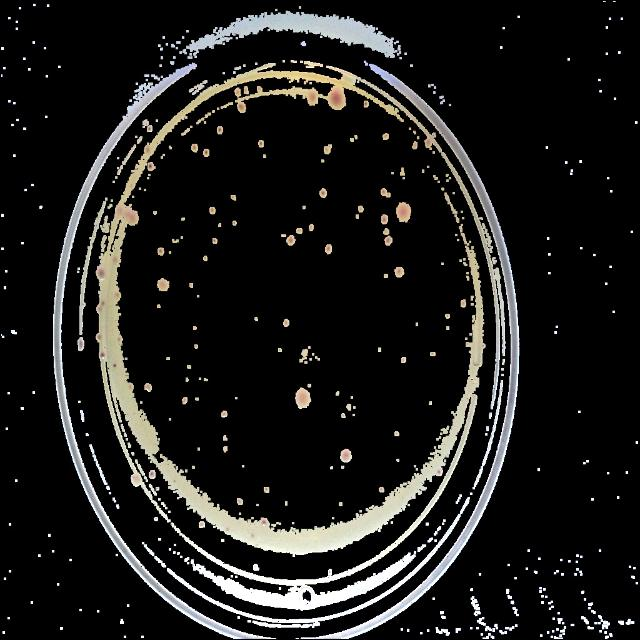colony: (329, 88, 345, 110), (296, 387, 310, 409), (396, 203, 410, 221), (128, 208, 140, 226), (120, 206, 132, 224), (130, 471, 142, 487), (158, 278, 170, 292), (308, 88, 318, 104), (258, 516, 270, 528), (116, 202, 124, 220), (341, 448, 351, 462), (394, 268, 404, 278), (286, 234, 294, 246), (326, 243, 334, 254), (78, 338, 84, 352), (319, 188, 327, 198), (126, 382, 134, 392), (111, 254, 119, 264), (144, 145, 152, 155), (242, 85, 250, 95), (282, 318, 290, 327), (234, 89, 242, 98), (424, 138, 432, 146), (236, 498, 244, 506), (256, 86, 264, 94), (238, 102, 244, 112), (98, 268, 104, 278), (459, 299, 466, 307), (382, 214, 388, 223), (216, 126, 222, 134), (382, 134, 390, 140), (385, 236, 391, 244), (158, 247, 164, 255), (96, 334, 102, 342), (428, 351, 436, 357), (220, 411, 228, 417), (150, 470, 156, 478), (112, 362, 118, 370), (224, 526, 230, 534), (436, 468, 442, 476), (146, 384, 152, 391), (97, 303, 101, 313), (192, 145, 198, 151), (358, 207, 364, 213), (296, 228, 302, 234), (401, 357, 407, 363), (264, 486, 270, 492), (198, 522, 204, 528), (116, 336, 122, 342), (327, 144, 333, 150), (148, 162, 152, 170), (326, 146, 330, 154), (181, 396, 185, 404), (309, 224, 313, 232), (254, 562, 258, 570), (328, 568, 332, 576), (250, 532, 254, 540), (204, 149, 208, 155), (364, 102, 370, 106), (382, 189, 386, 195), (413, 142, 417, 148), (232, 194, 236, 200), (210, 208, 216, 212), (99, 352, 103, 358), (342, 413, 346, 419), (395, 430, 399, 436), (465, 341, 469, 347), (189, 282, 193, 288), (203, 256, 207, 262), (260, 142, 264, 146), (384, 229, 388, 233), (232, 220, 236, 224), (213, 238, 217, 242), (446, 314, 450, 318), (379, 487, 383, 491), (481, 344, 485, 348), (195, 344, 199, 348), (187, 365, 191, 369), (351, 138, 354, 142), (148, 126, 150, 130), (387, 194, 391, 196), (186, 378, 188, 382), (158, 304, 160, 308)
